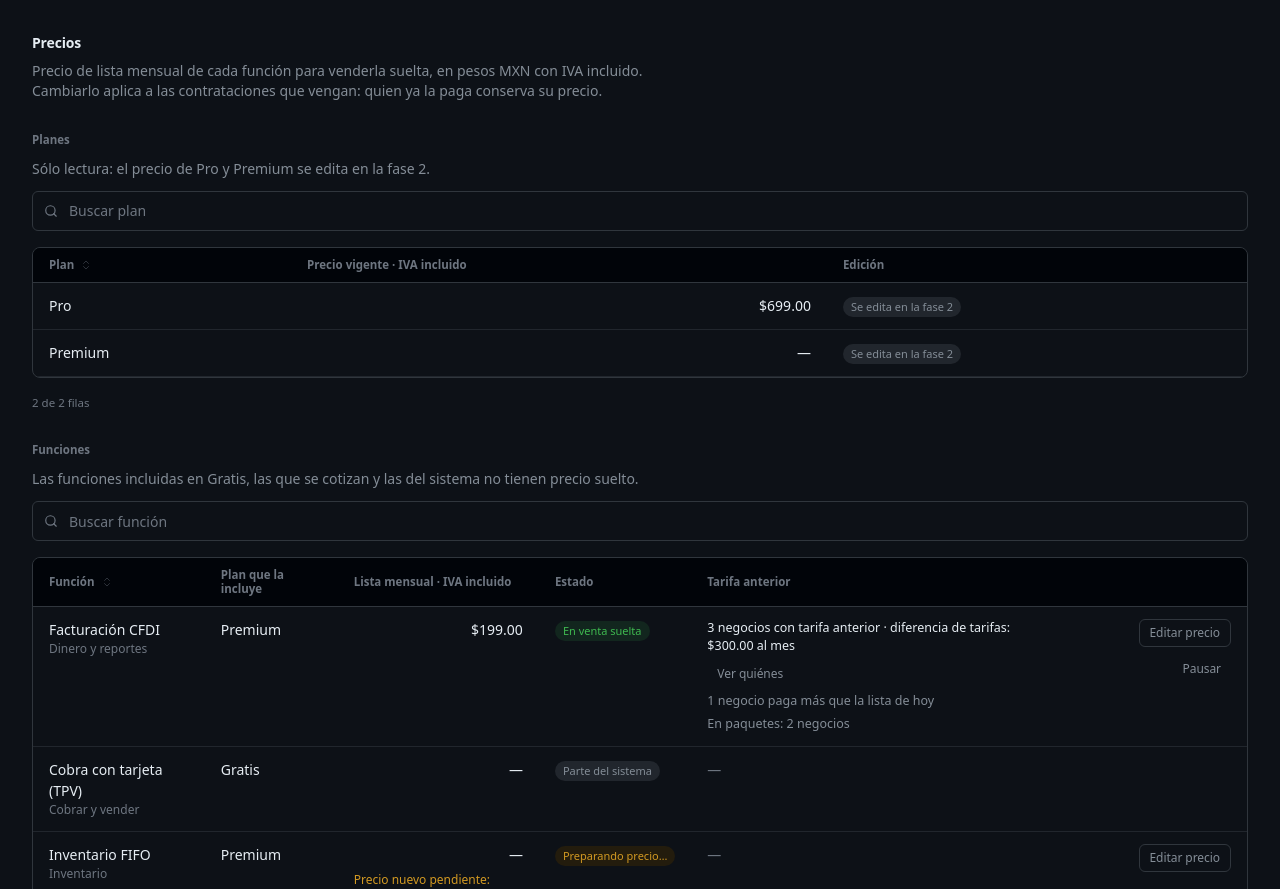
Scenario: PricingPage › when only some promotions could be paused, saves again so the list shows exactly what still blocks
Expected: the text "Facturación CFDI" is shown, [49,620,160,639]
Click the button with aria-label "Editar precio de Facturación CFDI" at {"x": 1185, "y": 633}, box [1138,619,1231,647]
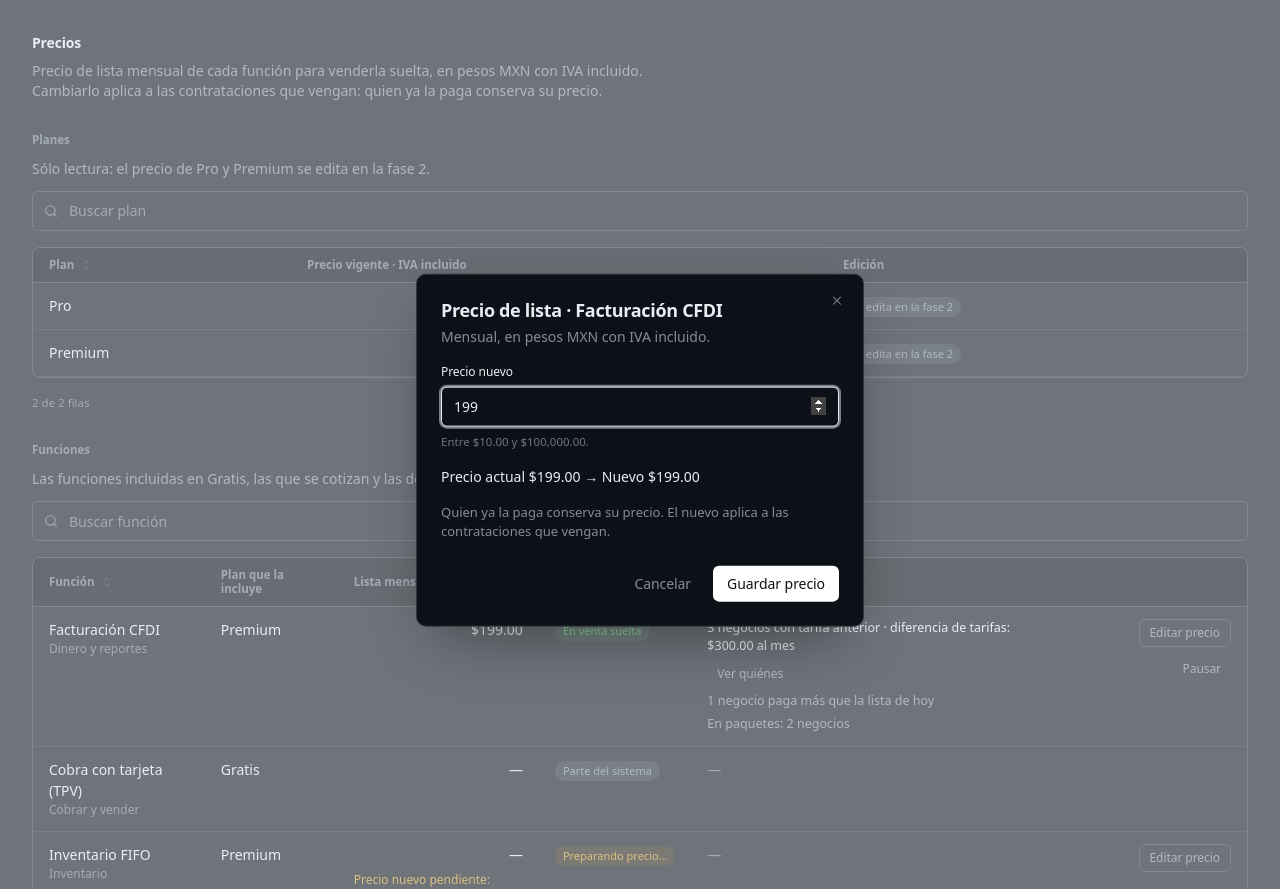
Clear the number field labelled "Precio nuevo" at {"x": 640, "y": 406}, box [441,386,839,426]
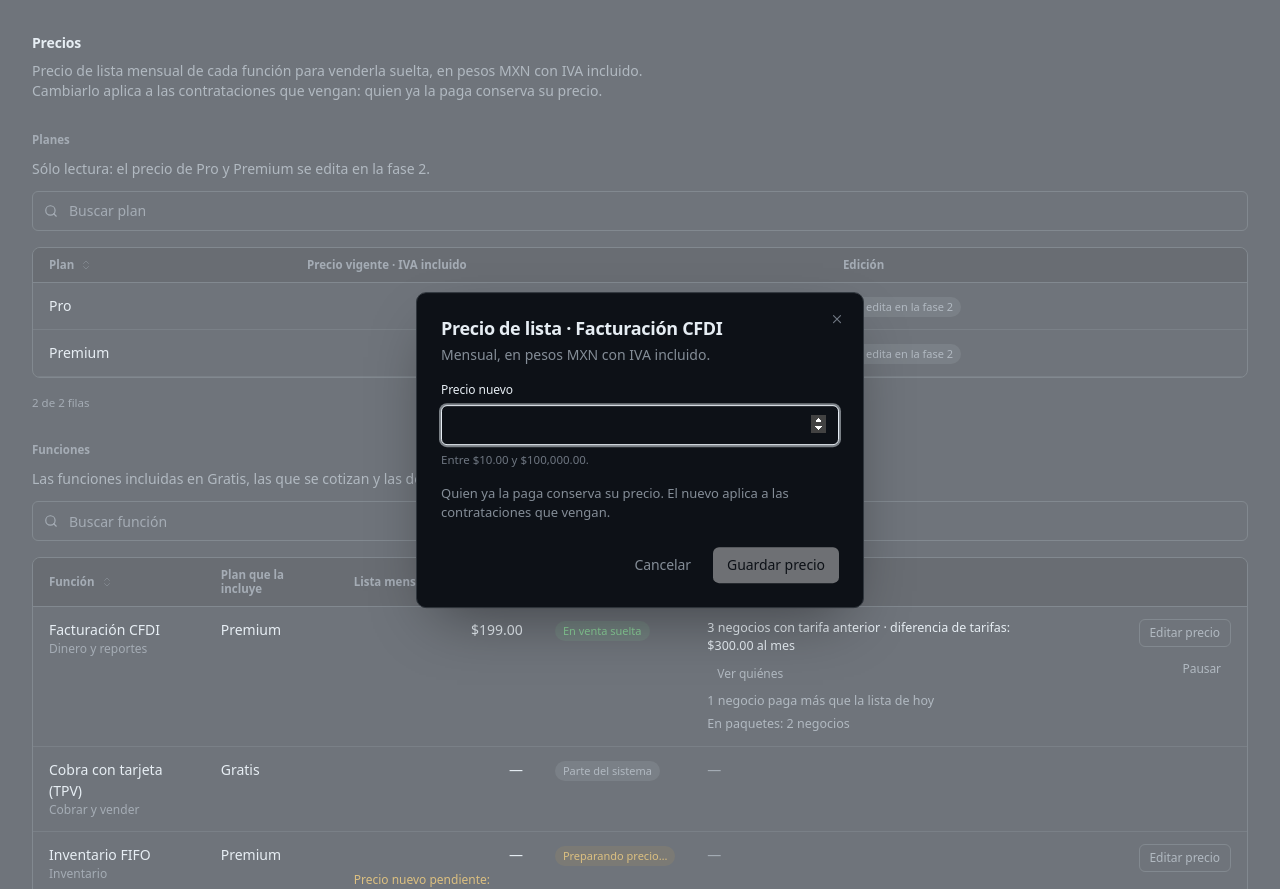
Type "249" into the number field labelled "Precio nuevo" at {"x": 640, "y": 425}, box [441,405,839,445]
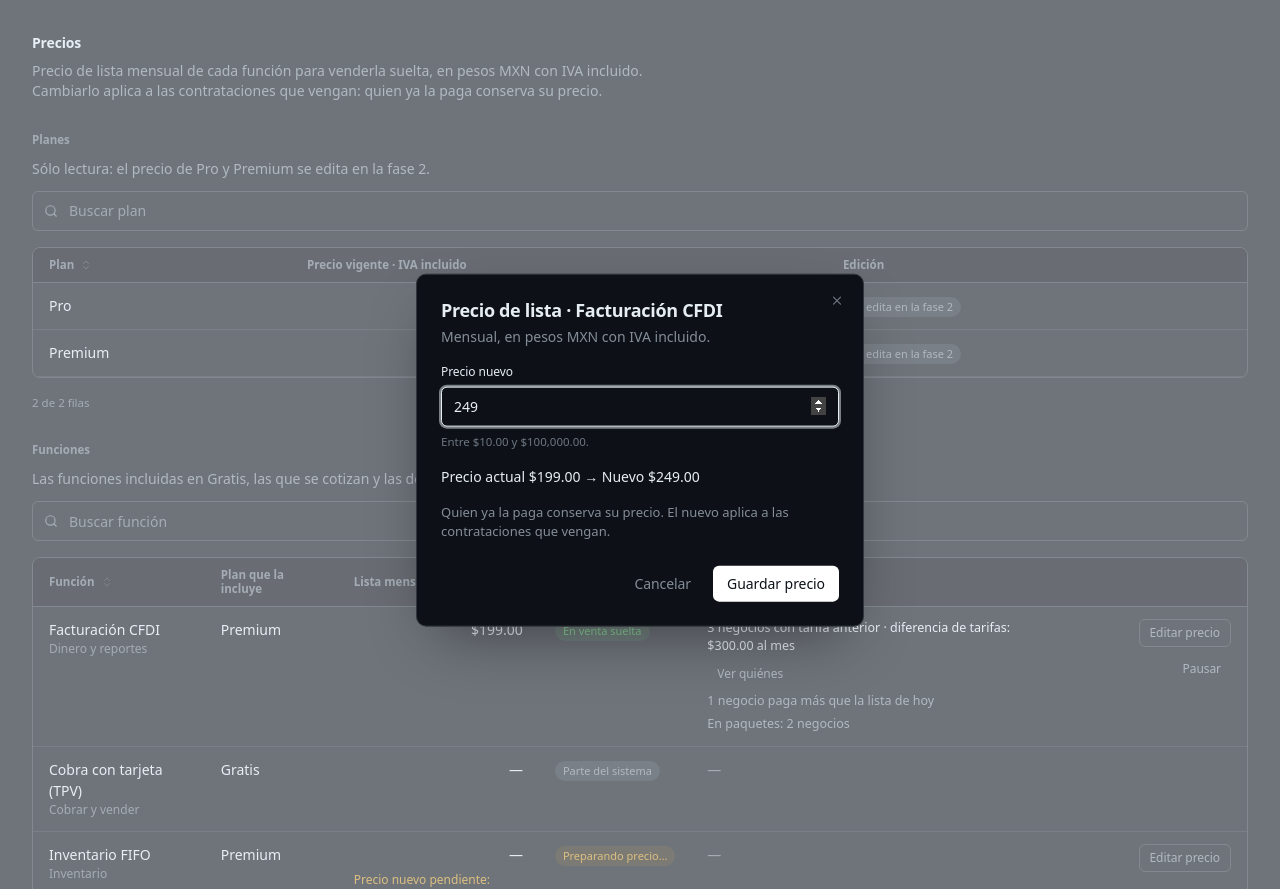
Click the button "Guardar precio" at {"x": 776, "y": 583}, box [713,565,839,601]
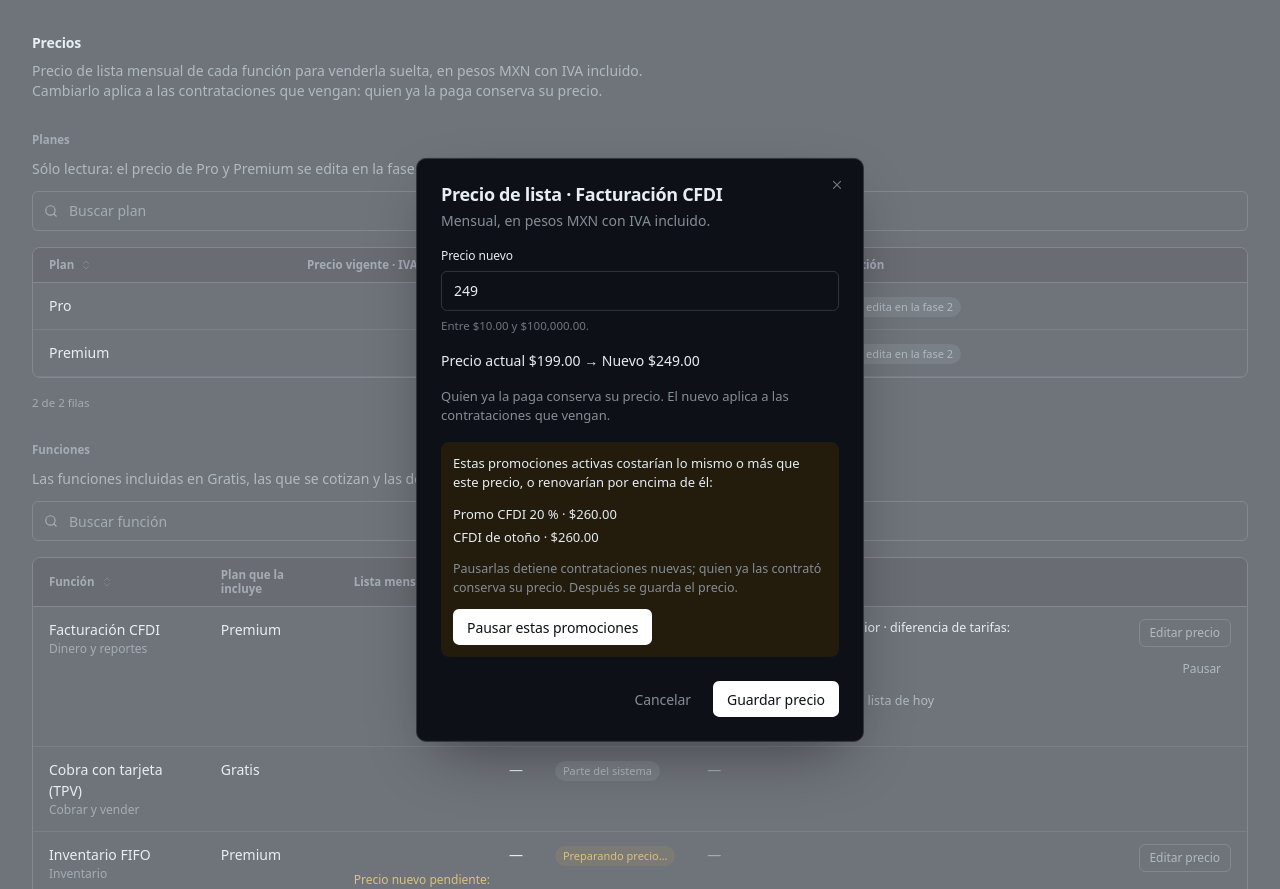
Click the button "Pausar estas promociones" at {"x": 553, "y": 627}, box [453,609,652,645]
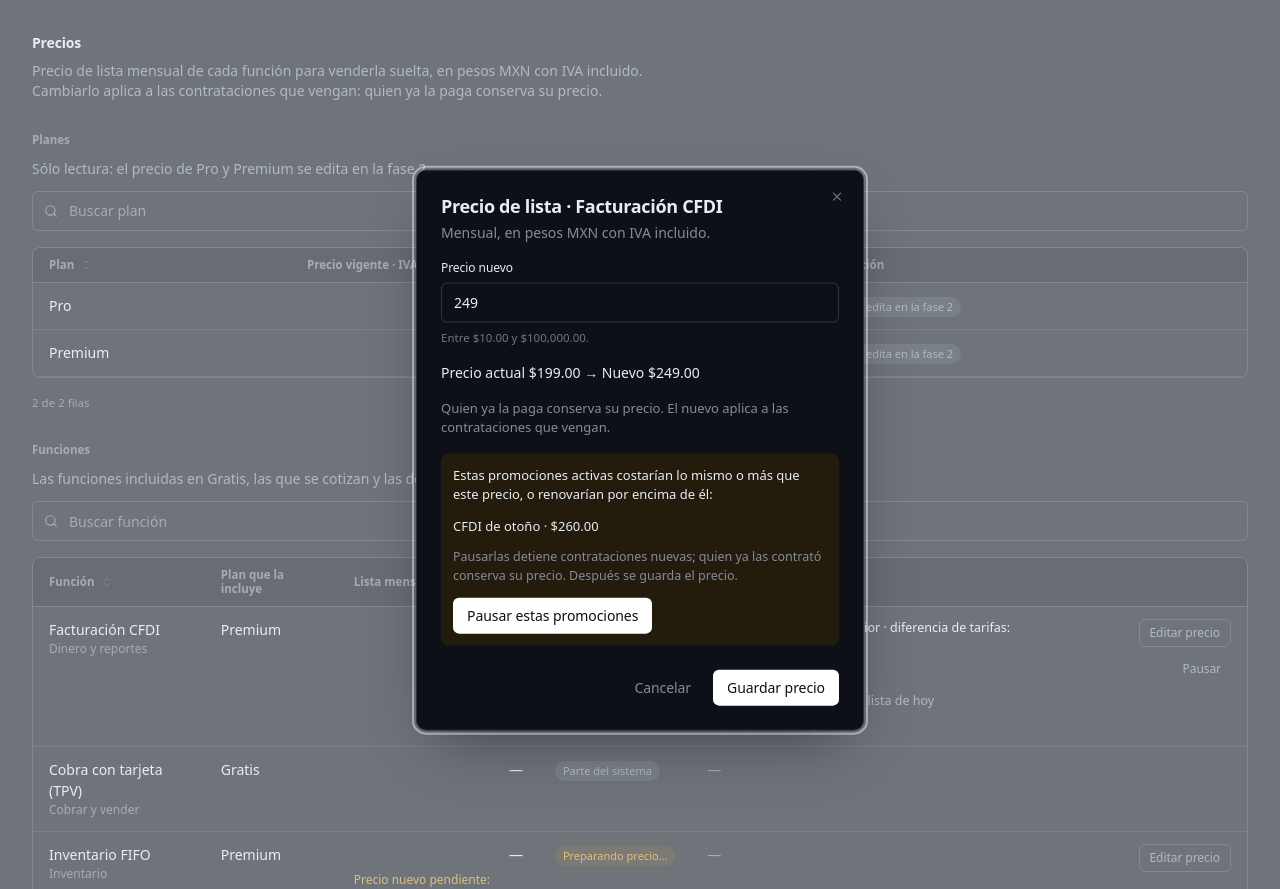
Expected: the text "CFDI de otoño · $260.00" is shown, [453,516,599,534]
Expected: the text "Promo CFDI 20 % · $260.00" is gone
